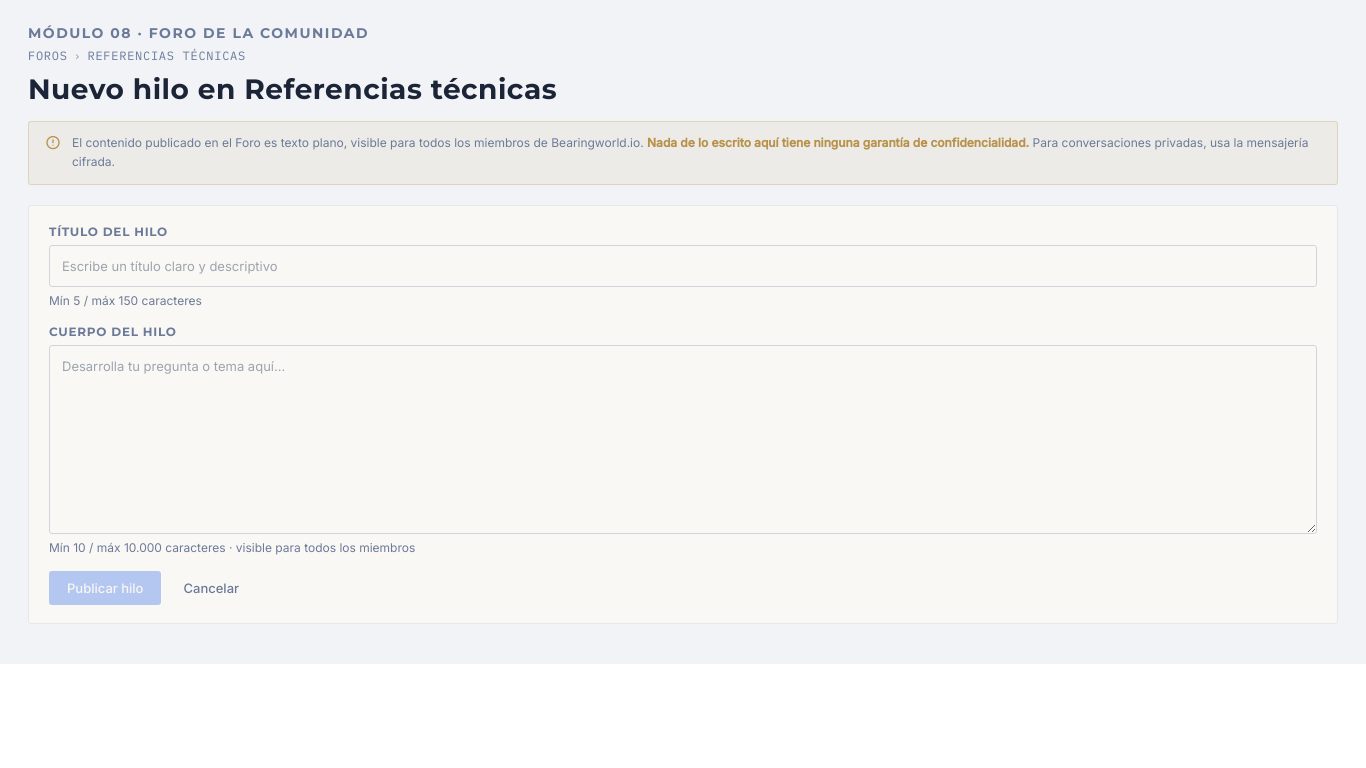
Test: FORO-03 · modo creación · publicar (CA-FORO-04) › si falla, dice por qué y los campos se quedan como estaban
Check: the heading "Nuevo hilo en Referencias técnicas" is shown, box [28,72,557,106]
In the field labelled "Título del hilo": (683,266) [49,245,1317,287], type "Equivalencia FAG 6205-2RS con NSK"
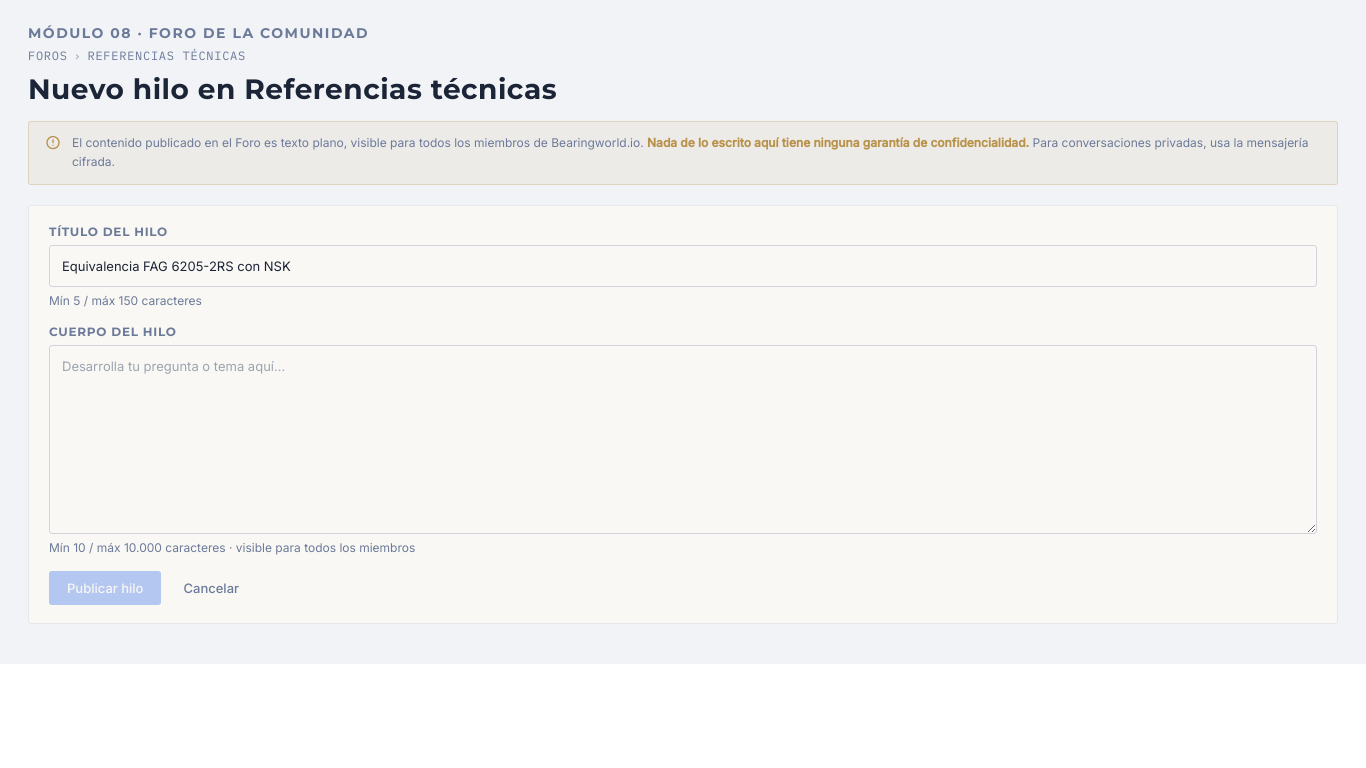
In the text box labelled "Cuerpo del hilo": (683,440) [49,345,1317,534], type "¿Alguien ha montado el equivalente NSK del FAG 6205-2RS?"
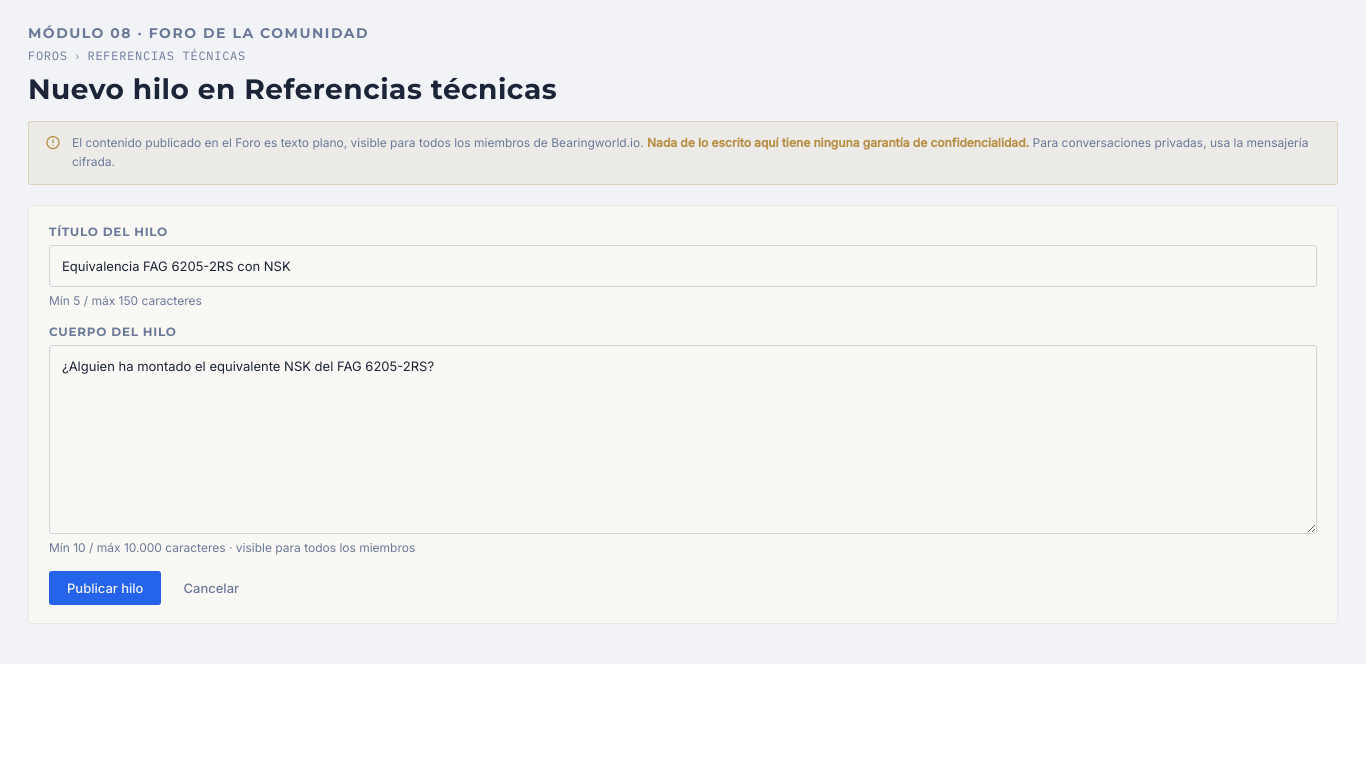
Click the button "Publicar hilo": (105,588) [49,571,162,605]
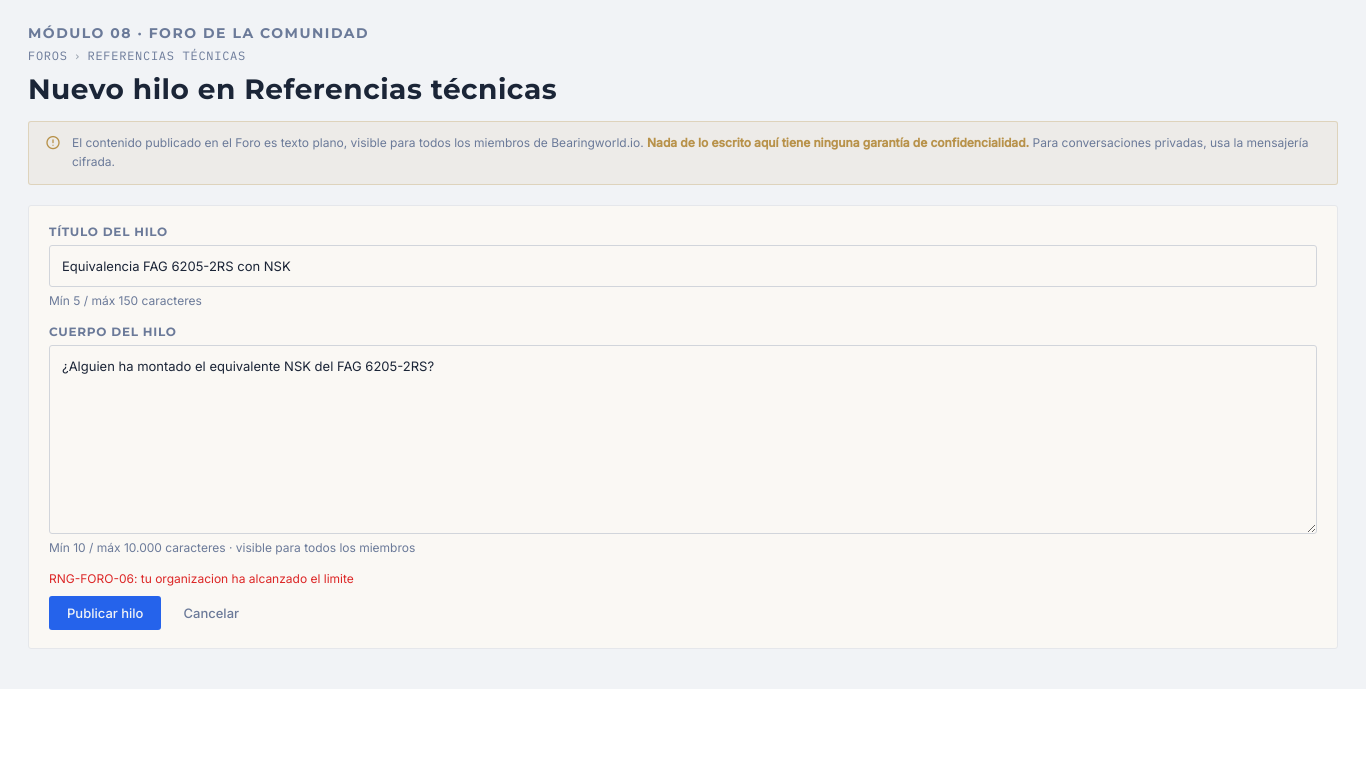
Check: the message shows "RNG-FORO-06", box [49,571,354,586]
